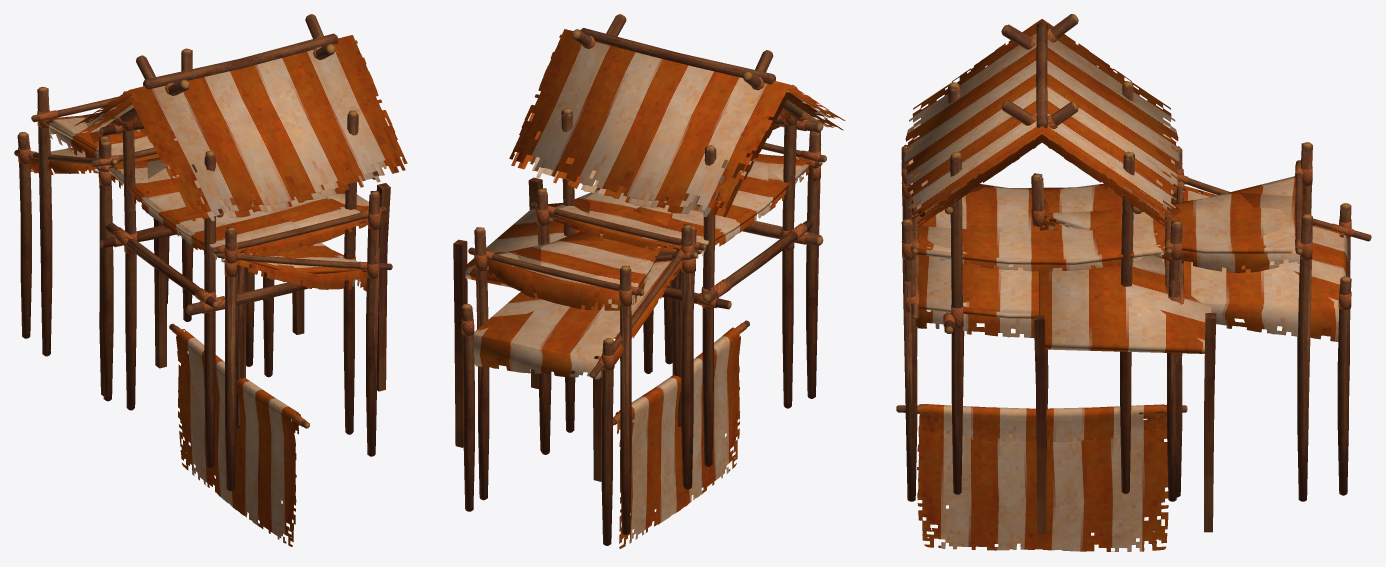
File: chCanopy.fbx
3 renders of one model, left to right at view 1: azimuth 30°, elevation 25°; view 2: azimuth 150°, elevation 25°; view 3: azimuth 270°, elevation 25°, orthographic. The views are drawn at different scales.
Parts seen in each view (by area): view 1: CTowPHY, CanopyTower, CanopyWall, CanopySquare, CanopyTri, CanopySquareSlant, CanopyCorner, CCornPHY, CSlantPHY, CSqrPHY, CTriPHY; view 2: CTowPHY, CanopyCorner, CanopyTower, CanopyTri, CanopyWall, CanopySquare, CCornPHY, CTriPHY, CanopySquareSlant, CSqrPHY, CSlantPHY; view 3: CanopyWall, CTowPHY, CCornPHY, CanopySquare, CanopyCorner, CanopyTri, CanopyTower, CanopySquareSlant, CSlantPHY, CSqrPHY, CTriPHY.
Part boxes in pixels (left/top/right/bottom): CTowPHY: left=74, top=35, right=407, bottom=312; CanopyTower: left=99, top=14, right=378, bottom=468; CanopyWall: left=169, top=323, right=309, bottom=546; CanopySquare: left=92, top=139, right=386, bottom=490; CanopyTri: left=31, top=48, right=244, bottom=428; CanopySquareSlant: left=97, top=152, right=392, bottom=440; CanopyCorner: left=14, top=132, right=169, bottom=395; CCornPHY: left=153, top=183, right=390, bottom=425; CSlantPHY: left=98, top=150, right=379, bottom=457; CSqrPHY: left=98, top=135, right=379, bottom=440; CTriPHY: left=37, top=50, right=244, bottom=427; CTowPHY: left=509, top=29, right=845, bottom=300; CanopyCorner: left=461, top=226, right=697, bottom=545; CanopyTower: left=540, top=14, right=823, bottom=466; CanopyTri: left=468, top=201, right=681, bottom=534; CanopyWall: left=613, top=320, right=749, bottom=548; CanopySquare: left=530, top=133, right=826, bottom=489; CCornPHY: left=453, top=177, right=681, bottom=481; CTriPHY: left=475, top=227, right=681, bottom=459; CanopySquareSlant: left=550, top=146, right=822, bottom=437; CSqrPHY: left=537, top=131, right=820, bottom=249; CSlantPHY: left=664, top=144, right=821, bottom=321; CanopyWall: left=896, top=404, right=1187, bottom=551; CTowPHY: left=904, top=19, right=1179, bottom=307; CCornPHY: left=1031, top=191, right=1216, bottom=534; CanopySquare: left=901, top=150, right=1182, bottom=501; CanopyCorner: left=1171, top=158, right=1371, bottom=497; CanopyTri: left=1031, top=142, right=1312, bottom=501; CanopyTower: left=918, top=14, right=1147, bottom=494; CanopySquareSlant: left=901, top=163, right=1182, bottom=448; CSlantPHY: left=901, top=161, right=1182, bottom=497; CSqrPHY: left=901, top=144, right=1182, bottom=299; CTriPHY: left=1031, top=142, right=1312, bottom=422.
Size of the model in its own units: 7.96 by 5.39 by 9.06.
